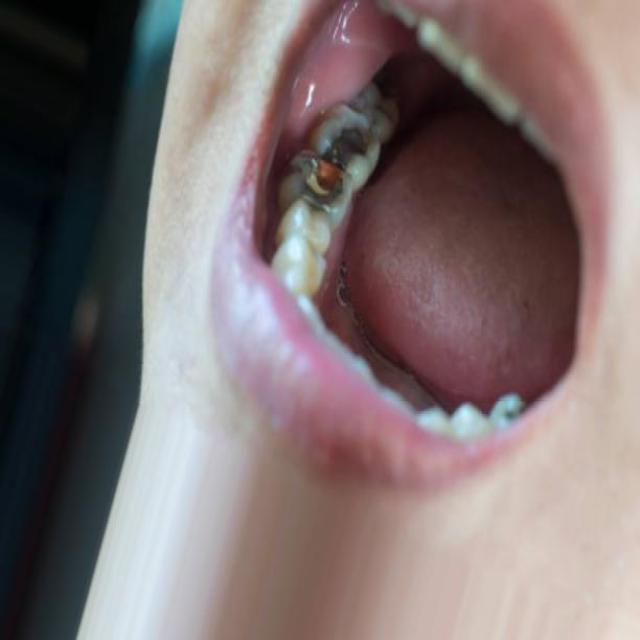caries: (285, 147, 357, 229), (316, 96, 380, 182)
